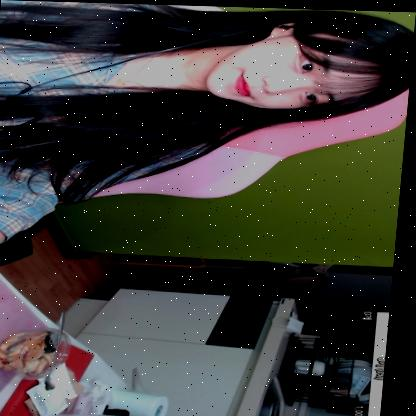streamer: (0, 0, 416, 327)
